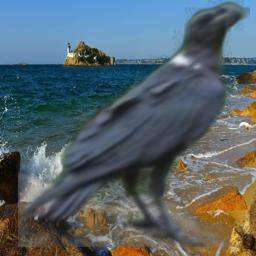Crow: (18, 0, 250, 247)
